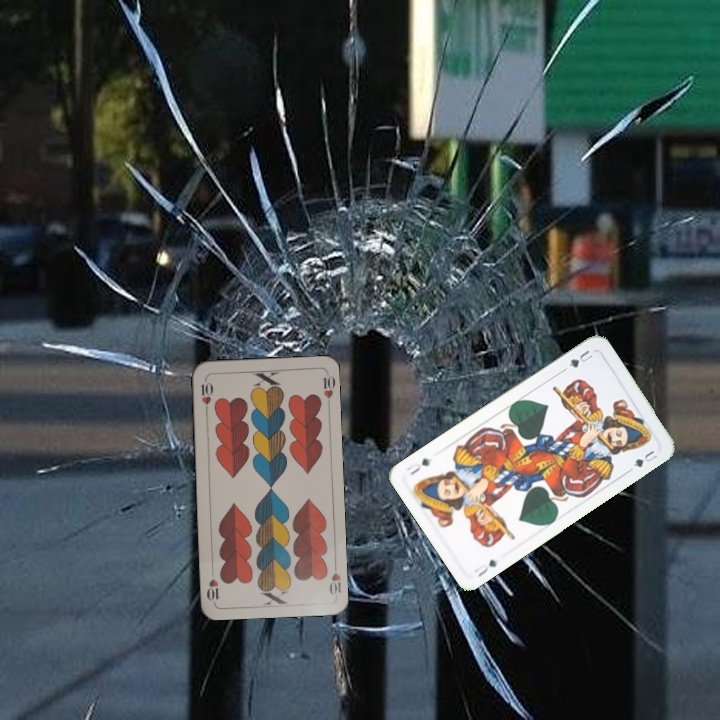GU: (560, 346, 595, 373), (470, 555, 500, 580)
H10: (197, 375, 215, 415), (325, 558, 343, 597)
